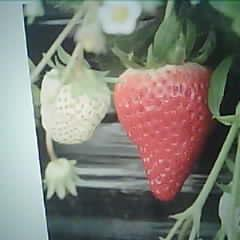straw-ripe: (116, 68, 217, 203)
